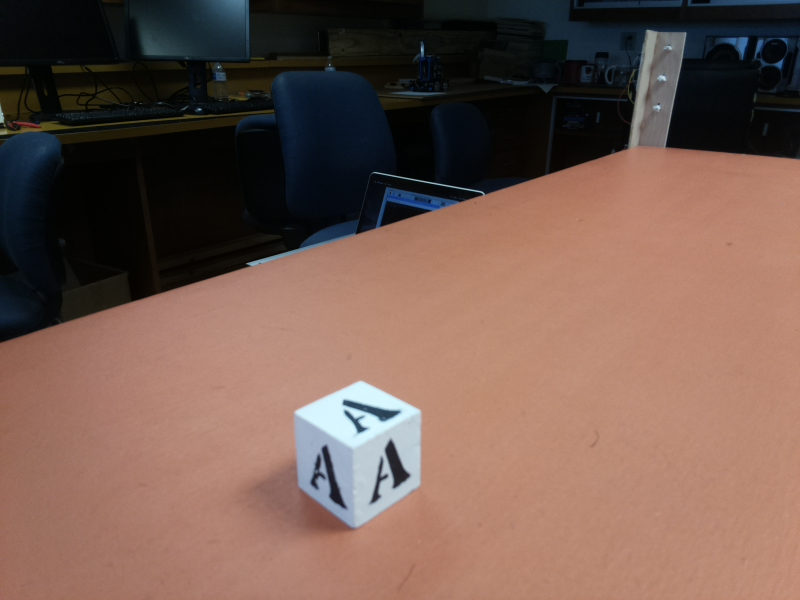blockA: (295, 376, 426, 520)
corner: (625, 32, 691, 148)
